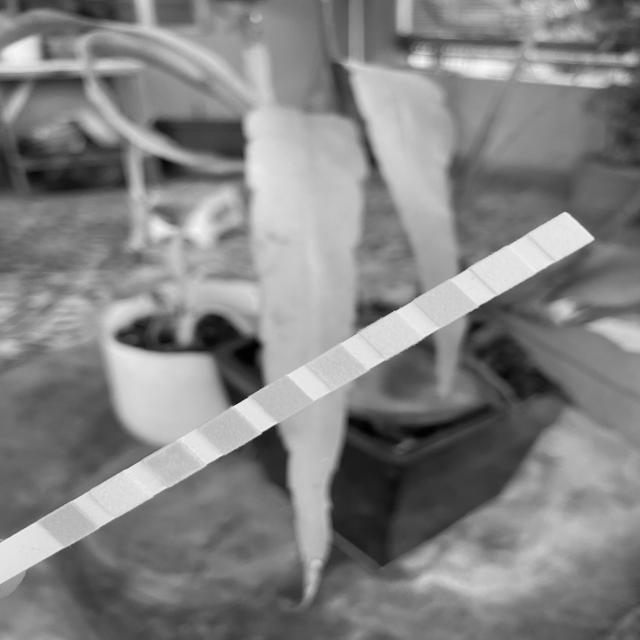Bilirubin: (102, 483, 140, 506)
Blood: (263, 388, 301, 408)
Glucose: (50, 513, 83, 536)
Ketone: (159, 450, 190, 476)
Leukocytes: (543, 224, 580, 249)
Nitrite: (483, 259, 521, 281)
Protein: (373, 323, 408, 346)
SpGravity: (211, 420, 248, 442)
Urobilinogen: (427, 292, 463, 315)
background: (0, 0, 640, 640)
pH: (317, 357, 356, 377)
strip: (6, 213, 595, 583)
